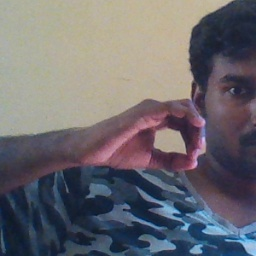O: (90, 90, 210, 181)
